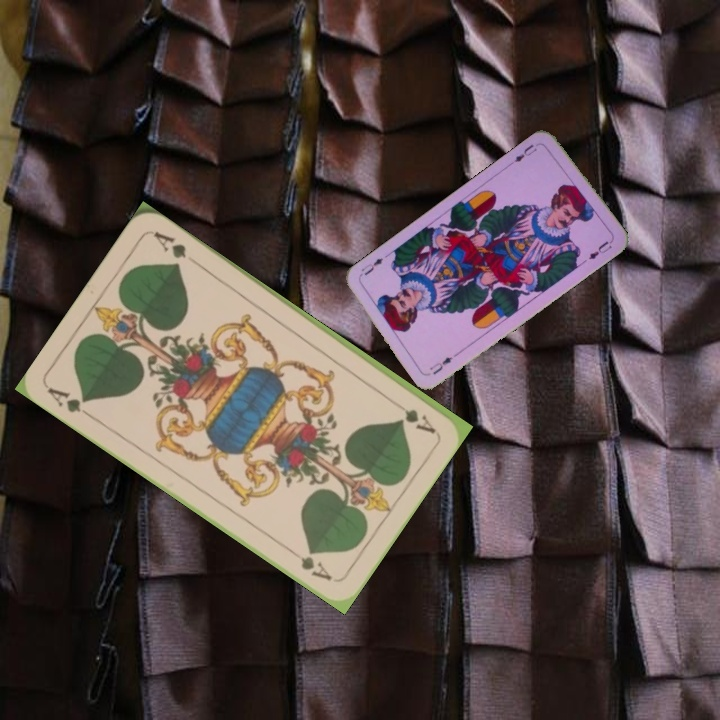EU: (510, 139, 542, 165), (425, 353, 455, 377)
GA: (387, 396, 439, 437), (43, 383, 97, 422)
